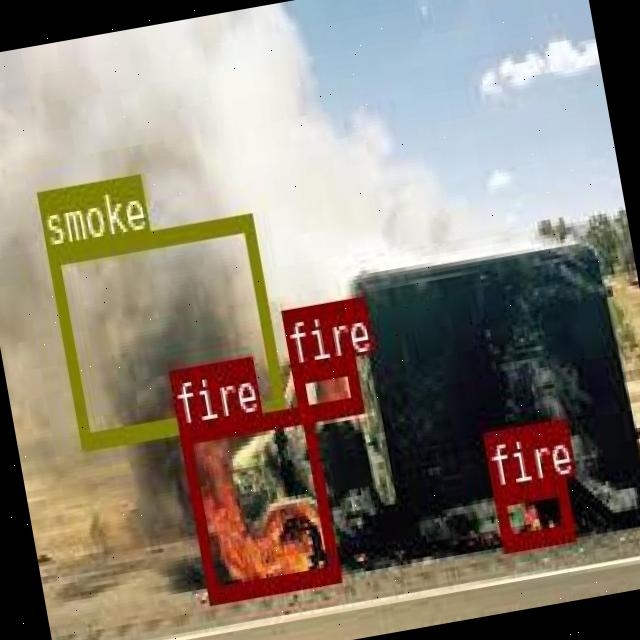fire: (178, 404, 338, 602), (492, 476, 572, 548), (288, 353, 362, 417)
smoke: (44, 212, 284, 446)
